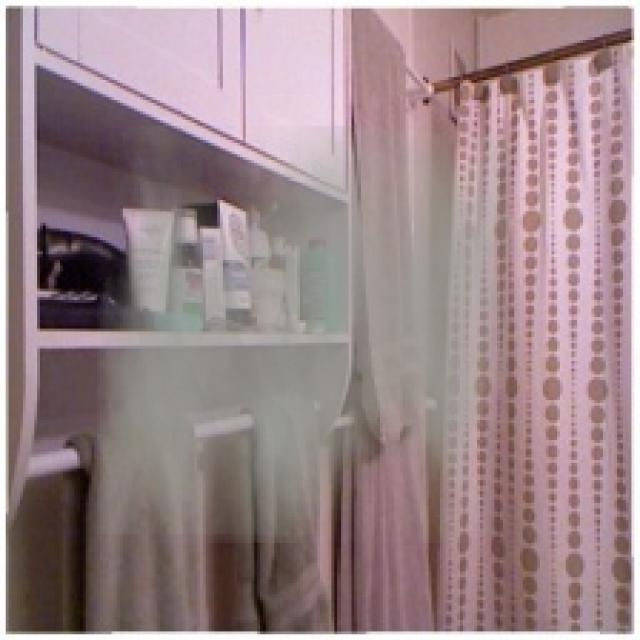Smoke: (97, 126, 512, 543)
